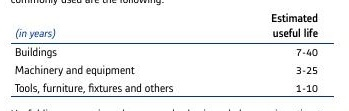table: (0, 0, 349, 111)
